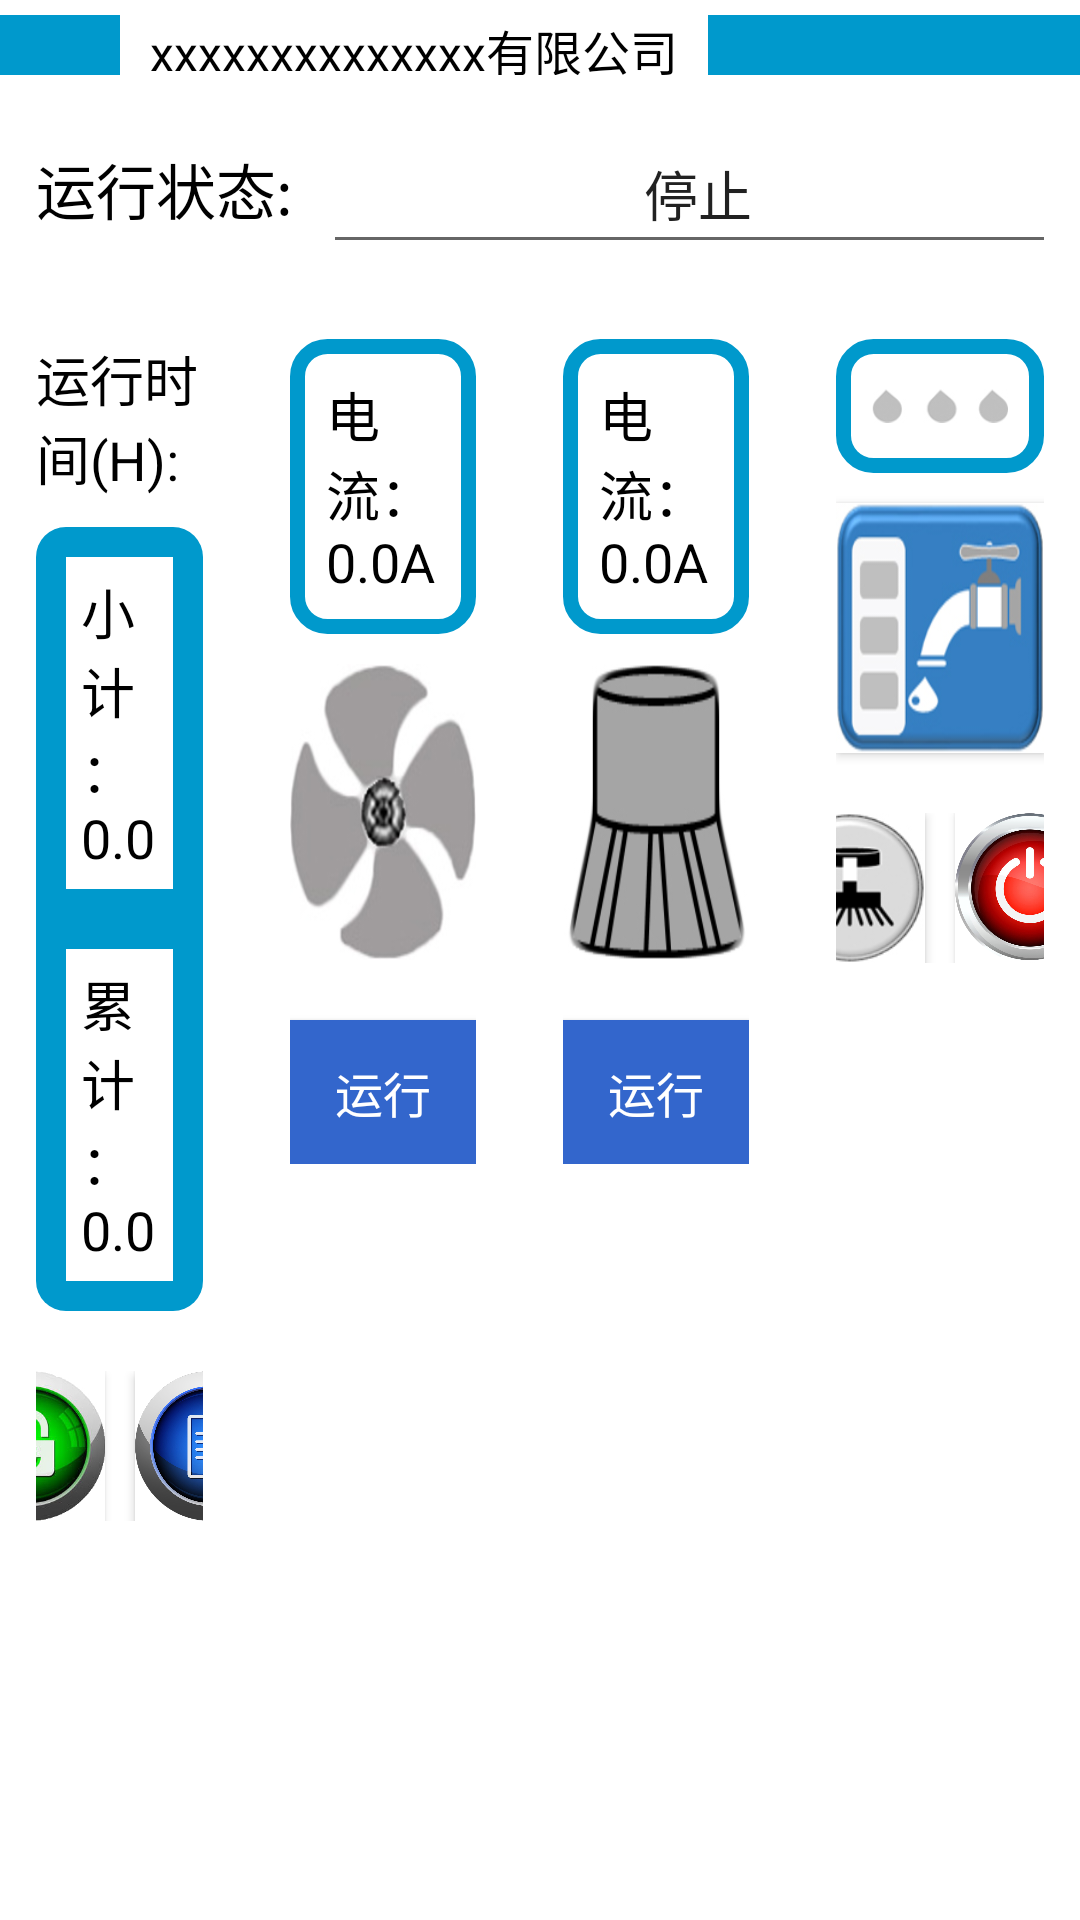

Named icons in this screenshot (1080×1920) and their bounding boxes, (x1, y1, x2, y2):
brush: (570, 665, 744, 959)
